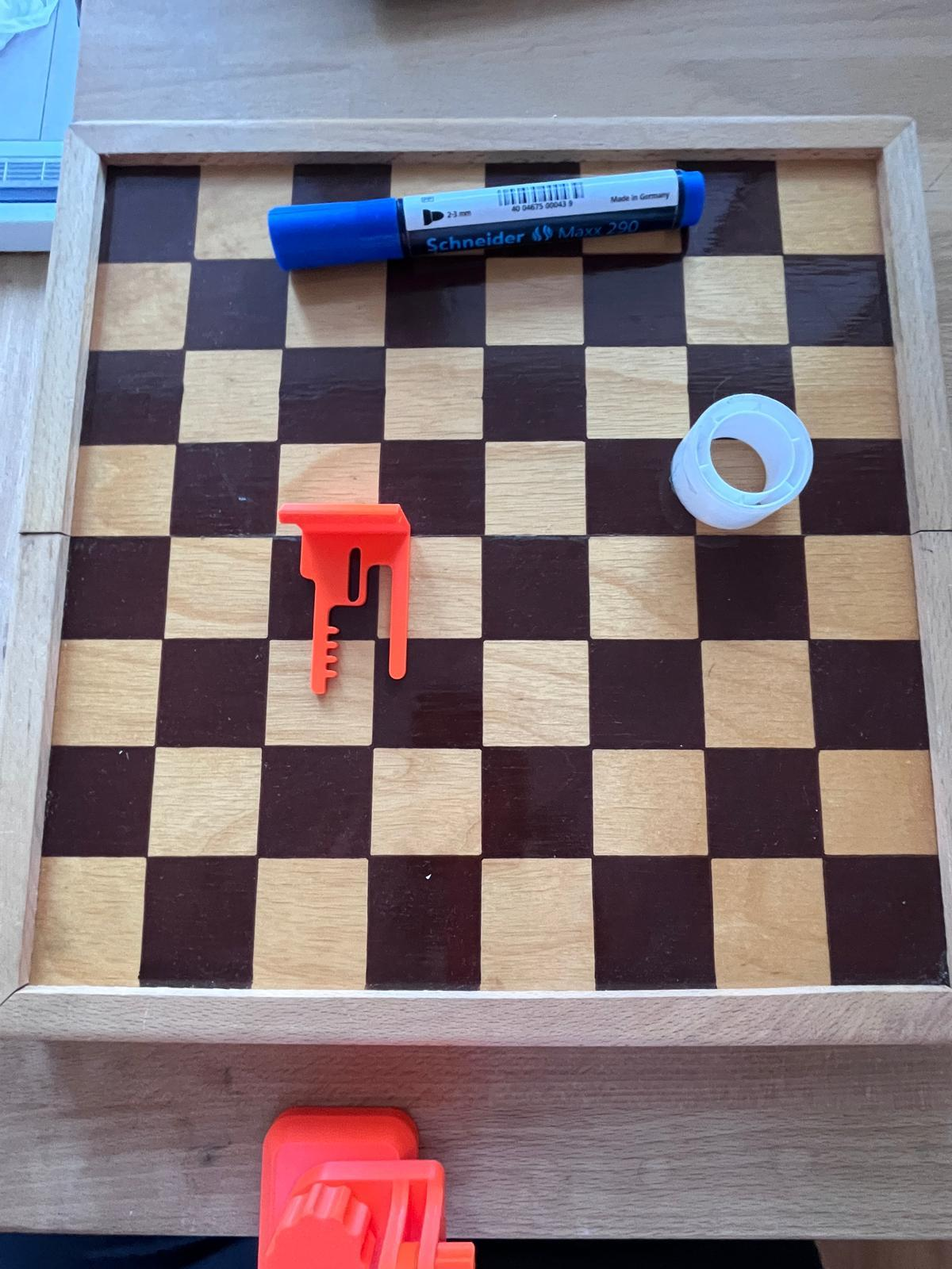clipper: (276, 498, 413, 700)
marker: (263, 168, 716, 271)
tape: (668, 390, 819, 530)
